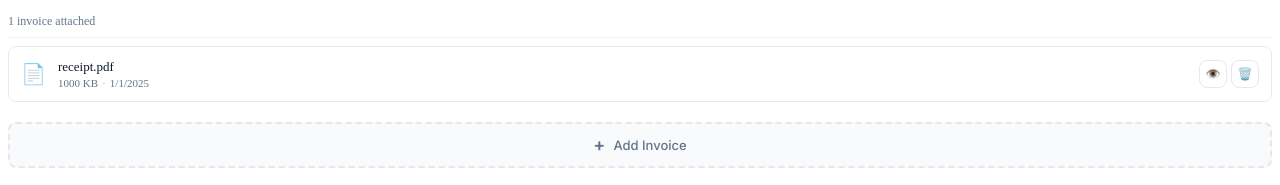
Scenario: Invoice Management Operations Integration › Enhanced Invoice Management Operations › should cancel delete when cancel button is clicked
Note: Click delete button
Click the button named "delete receipt.pdf": (1245, 74) left=1231, top=60, right=1259, bottom=88
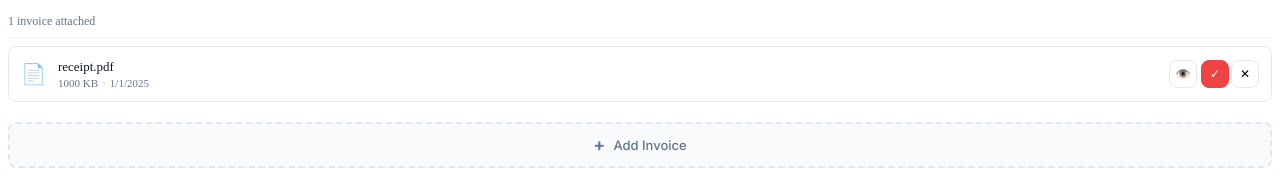
Note: Click cancel
Click the button titled "Cancel delete": (1245, 74) left=1231, top=60, right=1259, bottom=88
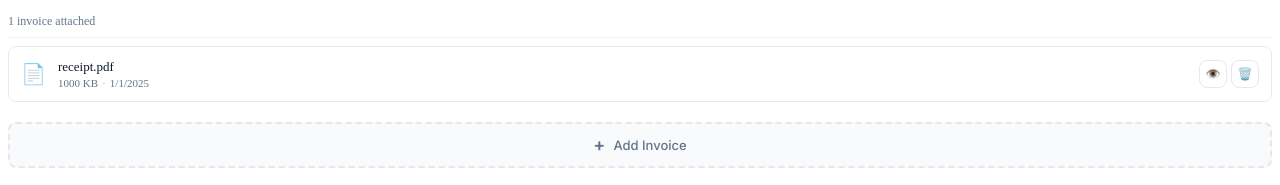
Result: the button named "delete receipt.pdf" is shown at left=1231, top=60, right=1259, bottom=88
